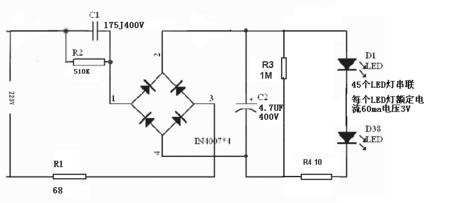bridge: (128, 66, 196, 138)
cap1: (89, 19, 100, 41)
cap2: (234, 101, 258, 114)
diode: (336, 56, 359, 75), (336, 130, 359, 146)
res1: (71, 57, 106, 69), (50, 172, 88, 182), (300, 172, 334, 182), (279, 56, 289, 81)
